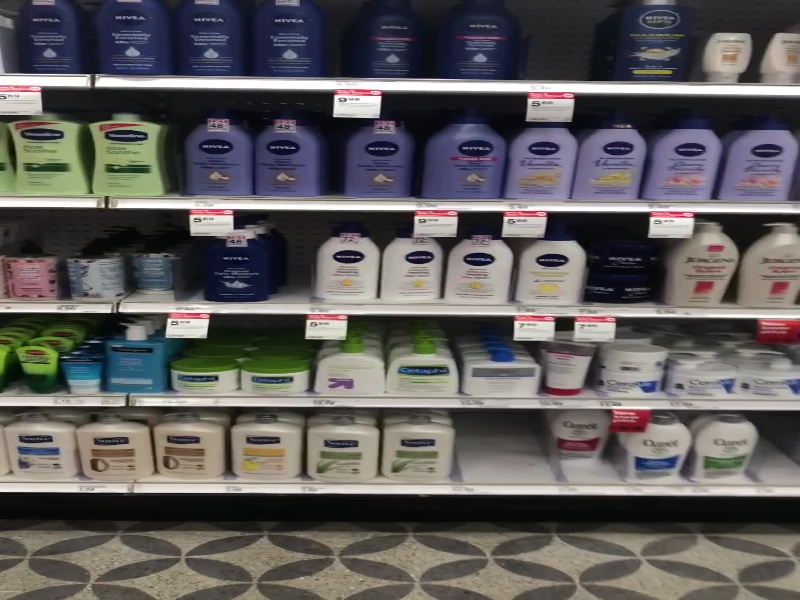empty_shelf_space: (458, 409, 554, 483), (524, 1, 612, 81), (755, 410, 800, 483)
